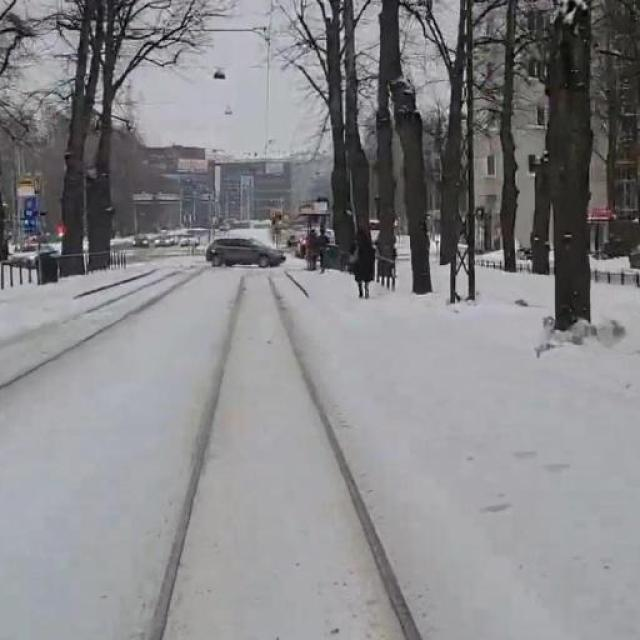people: (347, 228, 382, 298)
vehicle: (197, 229, 282, 272)
